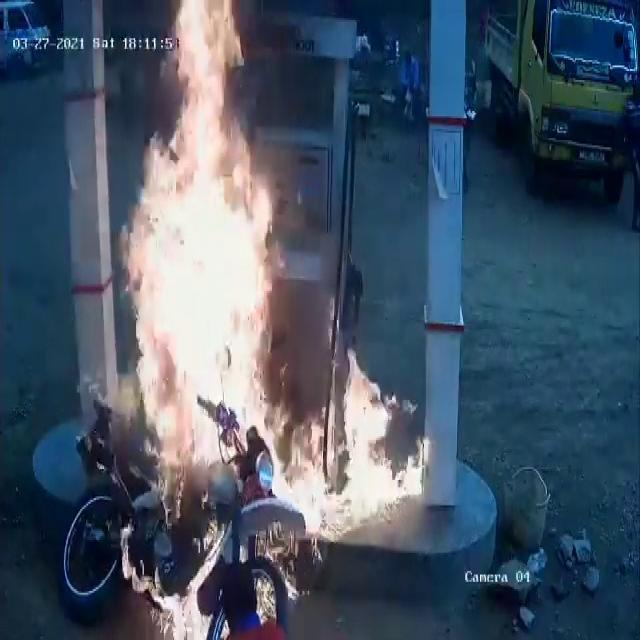Fire: (121, 0, 285, 449), (282, 346, 434, 546)
